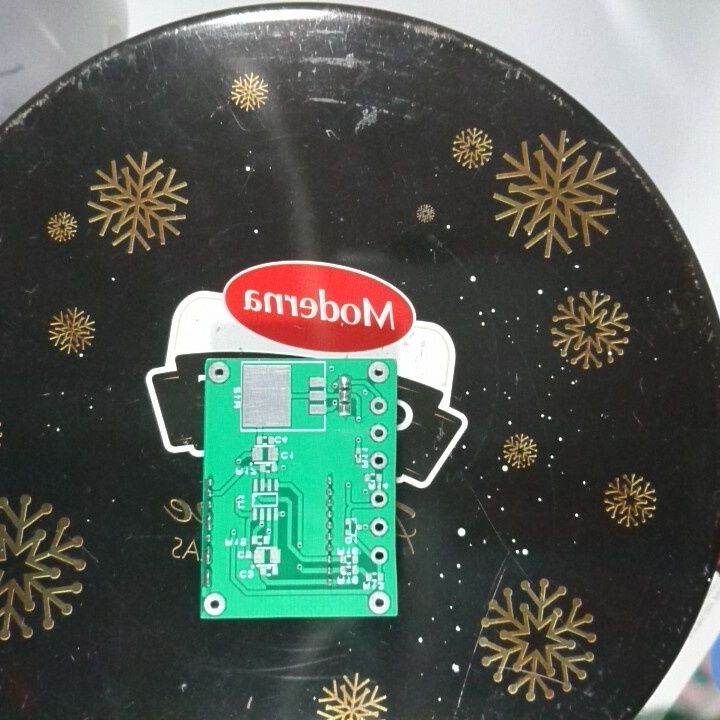F: (205, 358, 233, 388), (365, 589, 394, 615), (366, 359, 391, 386), (202, 590, 227, 616), (367, 516, 391, 540), (367, 421, 390, 443), (366, 486, 388, 509), (368, 543, 388, 567), (368, 448, 388, 471), (369, 395, 388, 416)
P: (203, 507, 216, 533), (202, 565, 215, 590), (202, 543, 215, 567)
